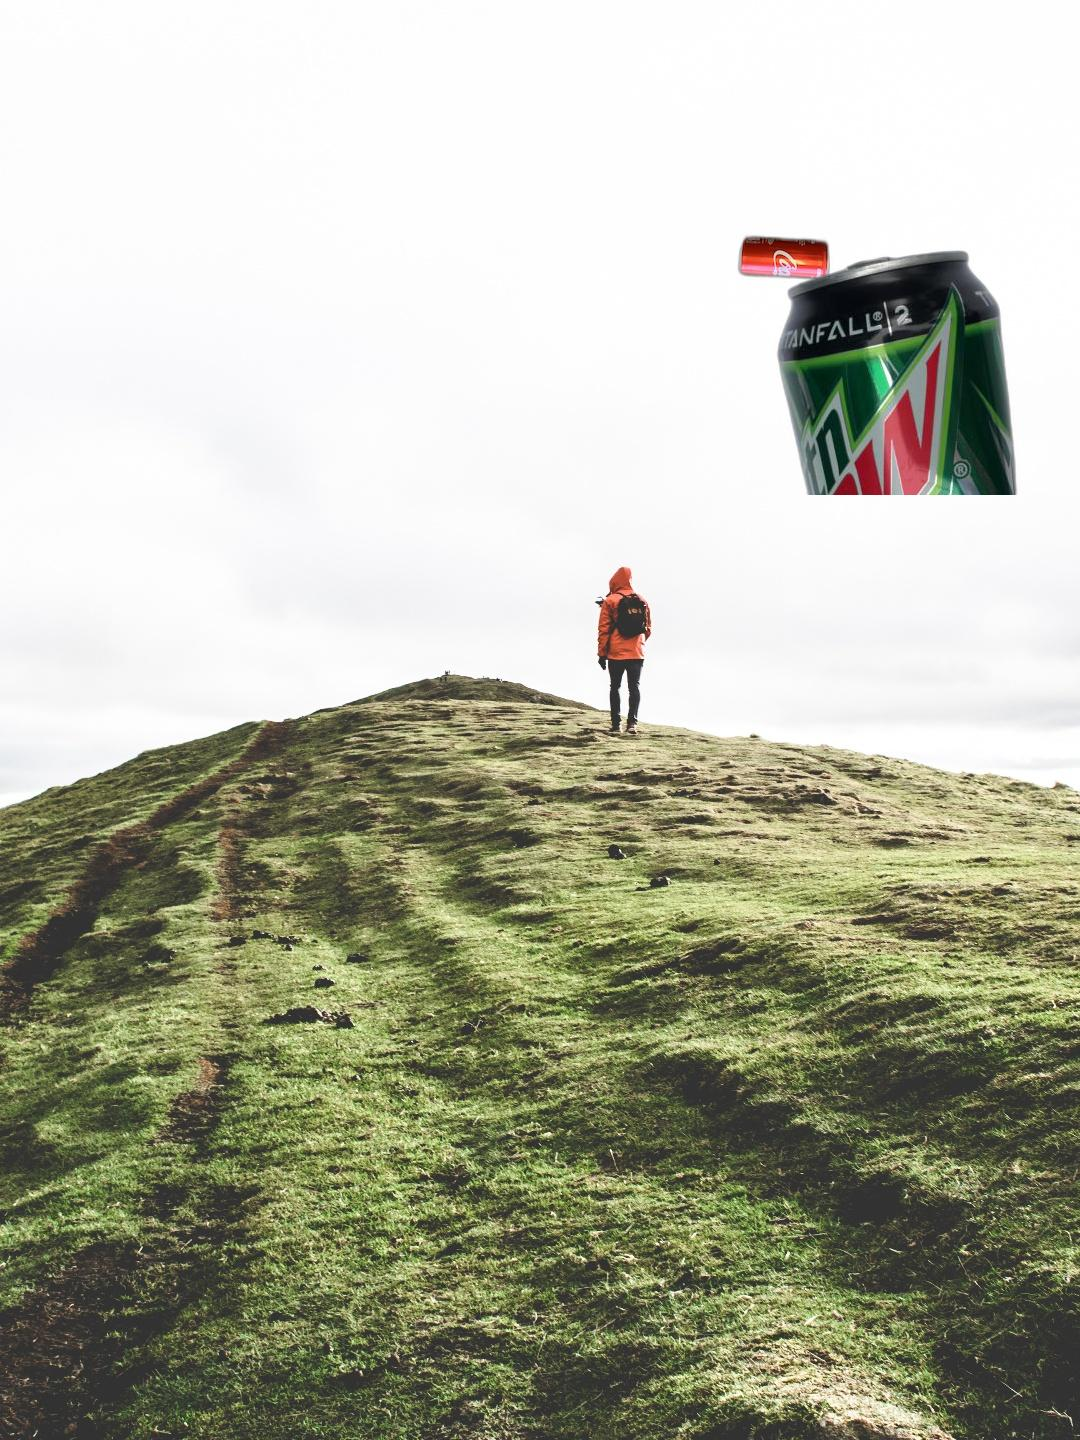metal-cans: (773, 249, 1021, 495), (734, 231, 834, 285)
